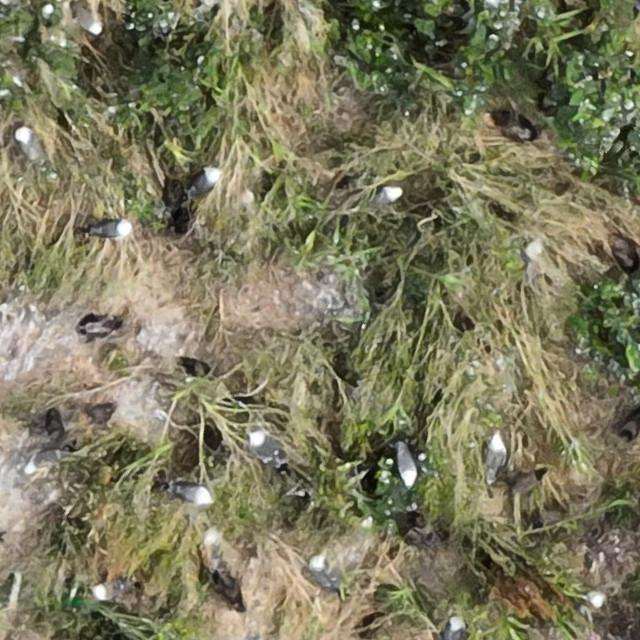umineko: (251, 434, 292, 477), (307, 557, 348, 589), (189, 167, 219, 195), (484, 434, 504, 476), (77, 5, 102, 38), (397, 449, 417, 487), (95, 220, 132, 240), (16, 128, 39, 159), (175, 485, 212, 504), (28, 450, 63, 468), (372, 187, 400, 205), (92, 582, 119, 600), (442, 617, 462, 640)
